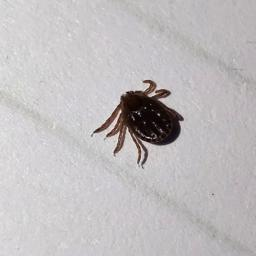Rhipicephalus sanguineus: (91, 80, 182, 168)
